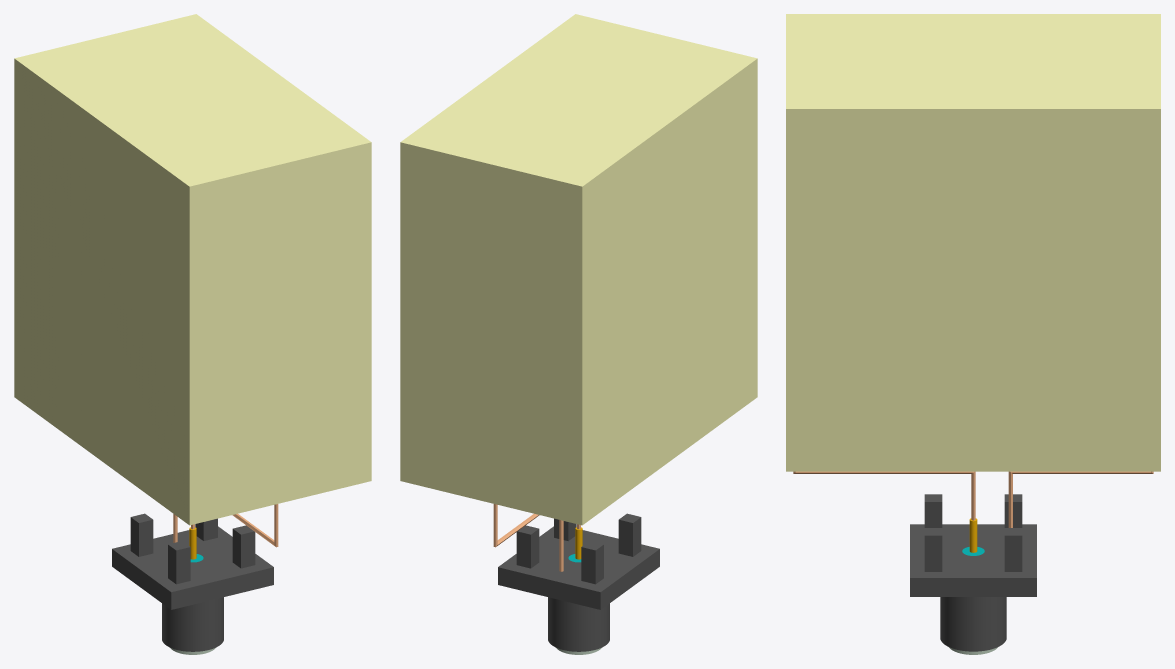
The model's file is Cond.glb.
The picture shows the model from 3 angles, left to right: view 1: azimuth 30°, elevation 25°; view 2: azimuth 150°, elevation 25°; view 3: azimuth 270°, elevation 25°; orthographic projection. The views are drawn at different scales.
Visible parts, largest first — view 1: Node7, Node4, Node3; view 2: Node7, Node4, Node3; view 3: Node7, Node4, Node3.
Boxes of the visible parts, x1,y1,x2,y2 form: Node7: (14,14,371,525); Node4: (112,513,273,651); Node3: (173,504,278,547); Node7: (400,14,757,525); Node4: (498,513,659,651); Node3: (493,504,580,571); Node7: (786,14,1160,471); Node4: (910,494,1036,651); Node3: (793,471,1153,527).
Bounding box in the file's own units: 28.57 × 81.63 × 47.62.
